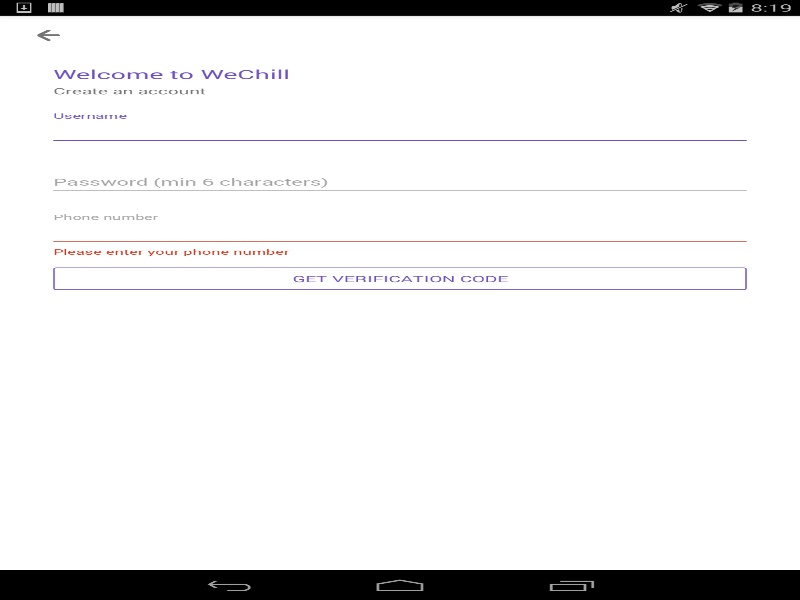Button: (48, 263, 752, 293), (10, 15, 85, 55)
Input: (48, 118, 752, 145), (48, 219, 752, 246), (48, 169, 752, 195)
